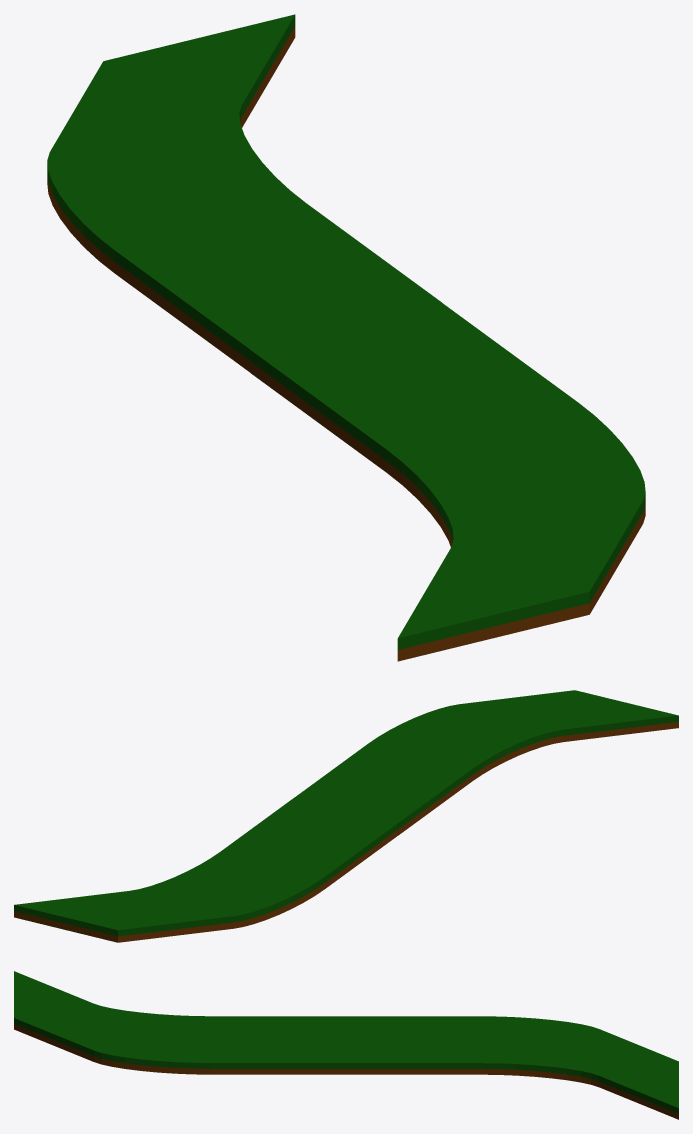
The model's file is PIEZA ESCENARIO 9.fbx.
The picture shows the model from 3 angles, top to bottom: view 1: azimuth 30°, elevation 25°; view 2: azimuth 150°, elevation 25°; view 3: azimuth 270°, elevation 25°; orthographic projection. The views are drawn at different scales.
Parts seen in each view (by area): view 1: Suelo 1.009; view 2: Suelo 1.009; view 3: Suelo 1.009.
Boxes of the visible parts, x1,y1,x2,y2 form: Suelo 1.009: [47, 14, 645, 661]; Suelo 1.009: [14, 690, 678, 942]; Suelo 1.009: [14, 971, 678, 1119].
Size of the model in its own units: 4144 by 163 by 8485.
